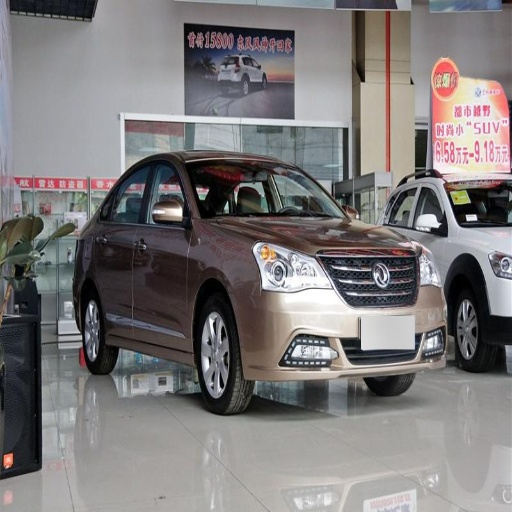front_bumper: (236, 255, 450, 381), (339, 472, 444, 510)
front_right_door: (135, 158, 189, 345)
front_right_light: (252, 240, 329, 291)
